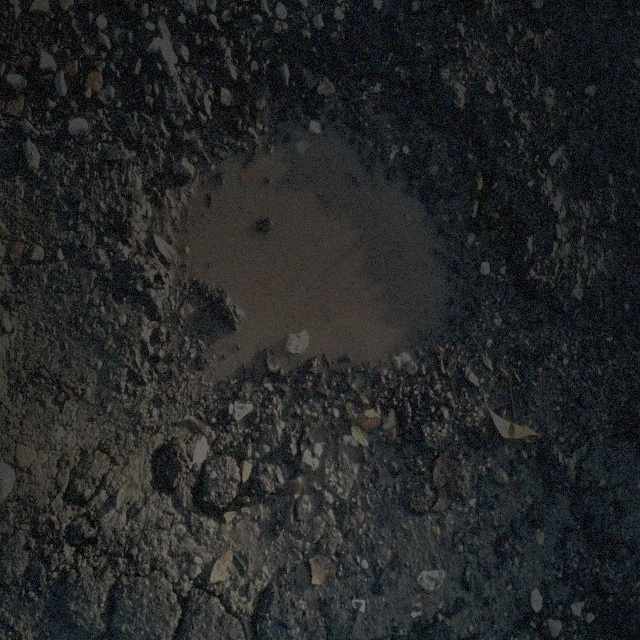pothole: (158, 74, 544, 498)
